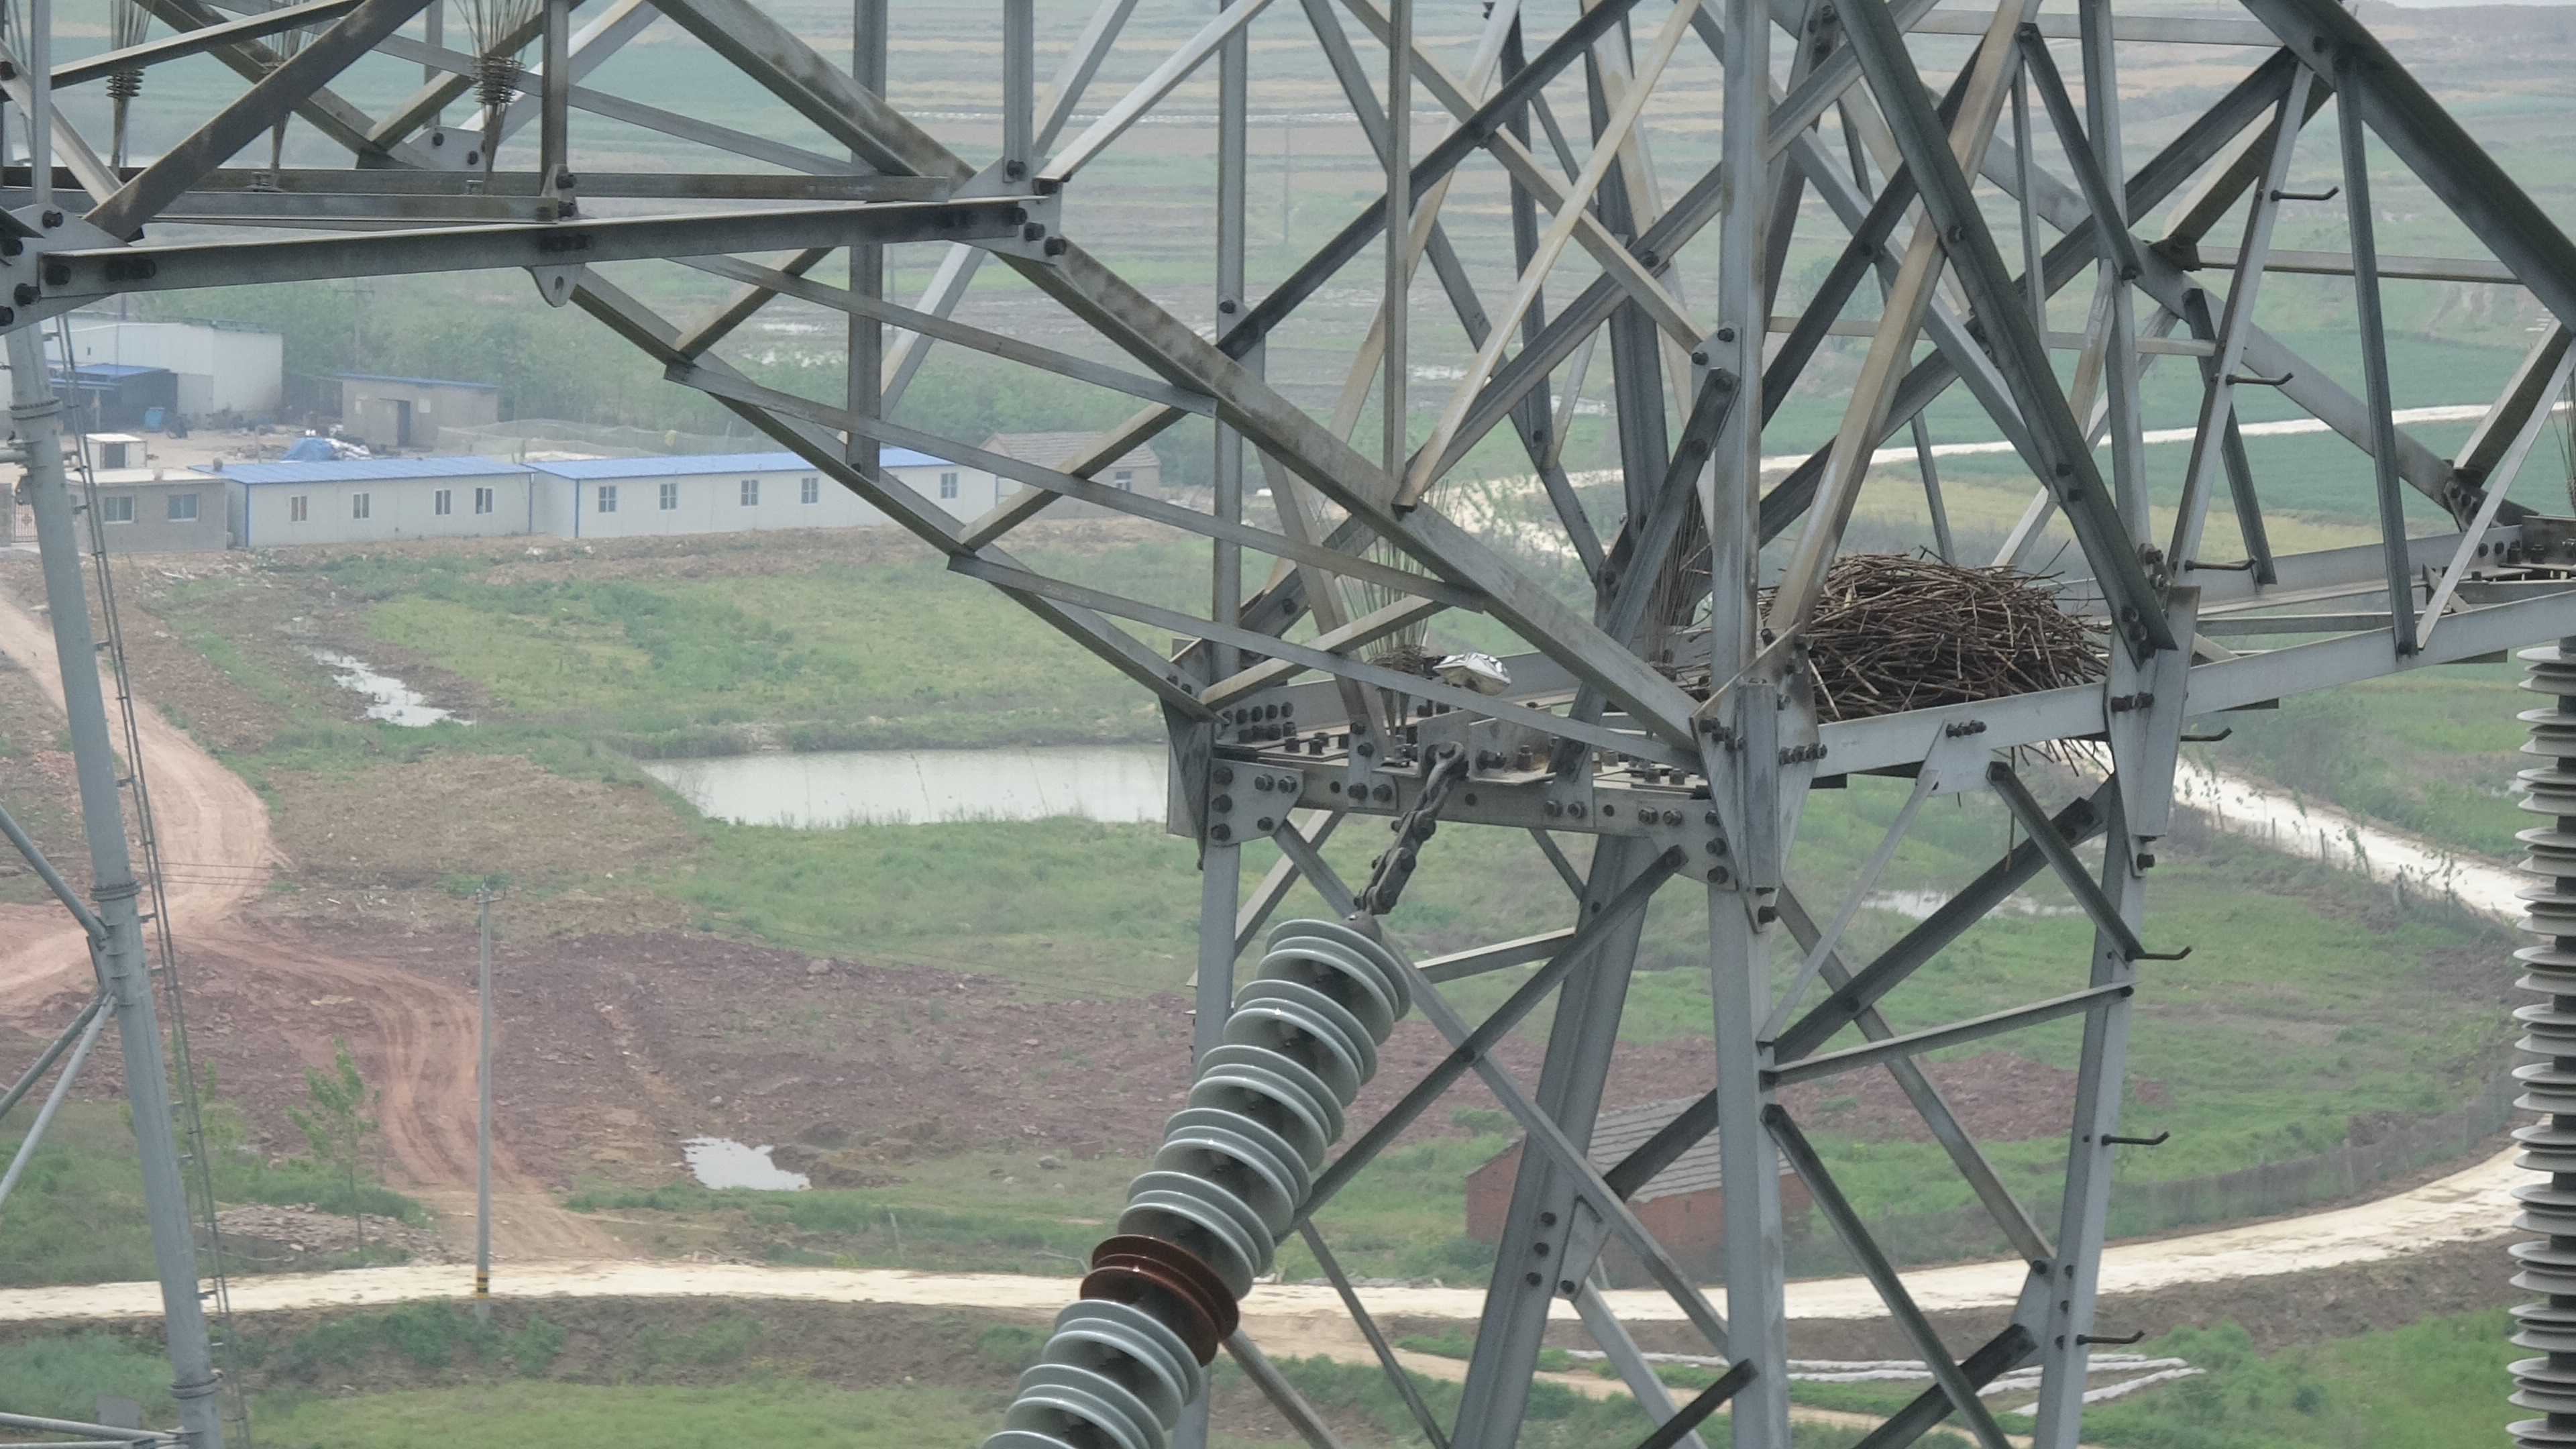niaowo: (1729, 518, 2123, 761)
